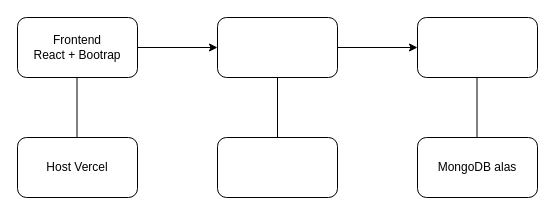
Image size: 555x215. Some labels were removed from this diagram. Each missing label, with the centre of its shape:
Backend Java (Spring Boot): the point at 277,47
Database (MongoDB): the point at 477,47
